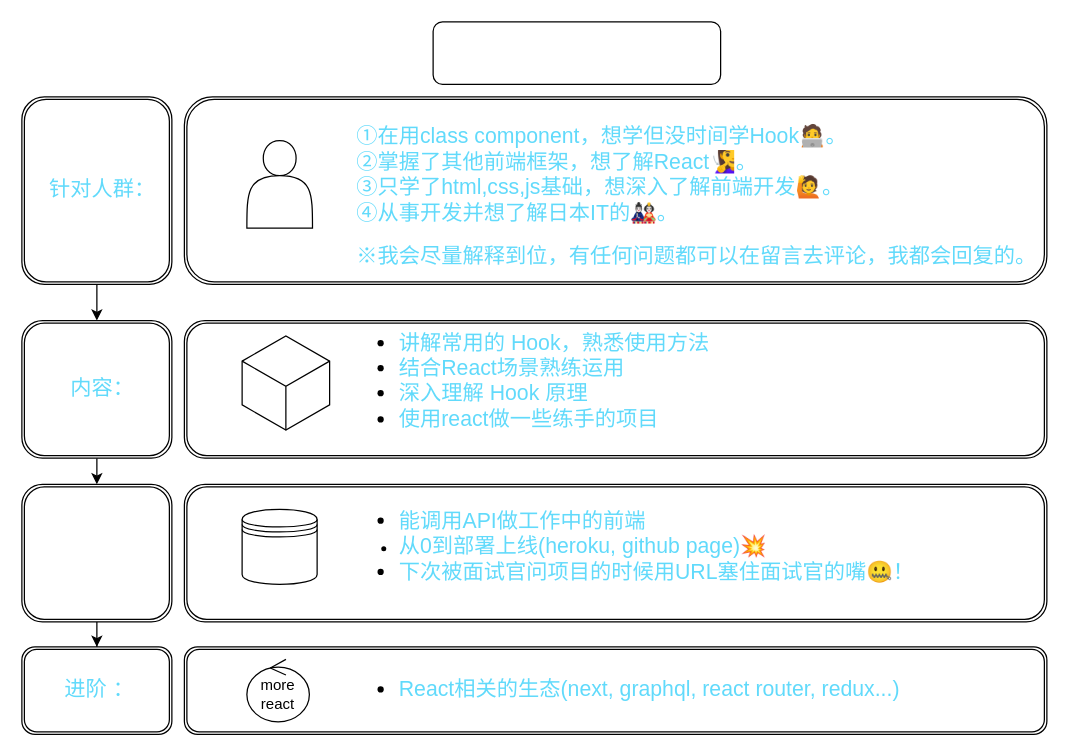
This 1069x756 diagram has some shape labels left out. Here are the shapes that lost their labels. From the top down, the centre of each, then its label:
At [576,52]: "React 系列教程(Hook)".
At [96,552]: "学完之后能达到的程度：".
